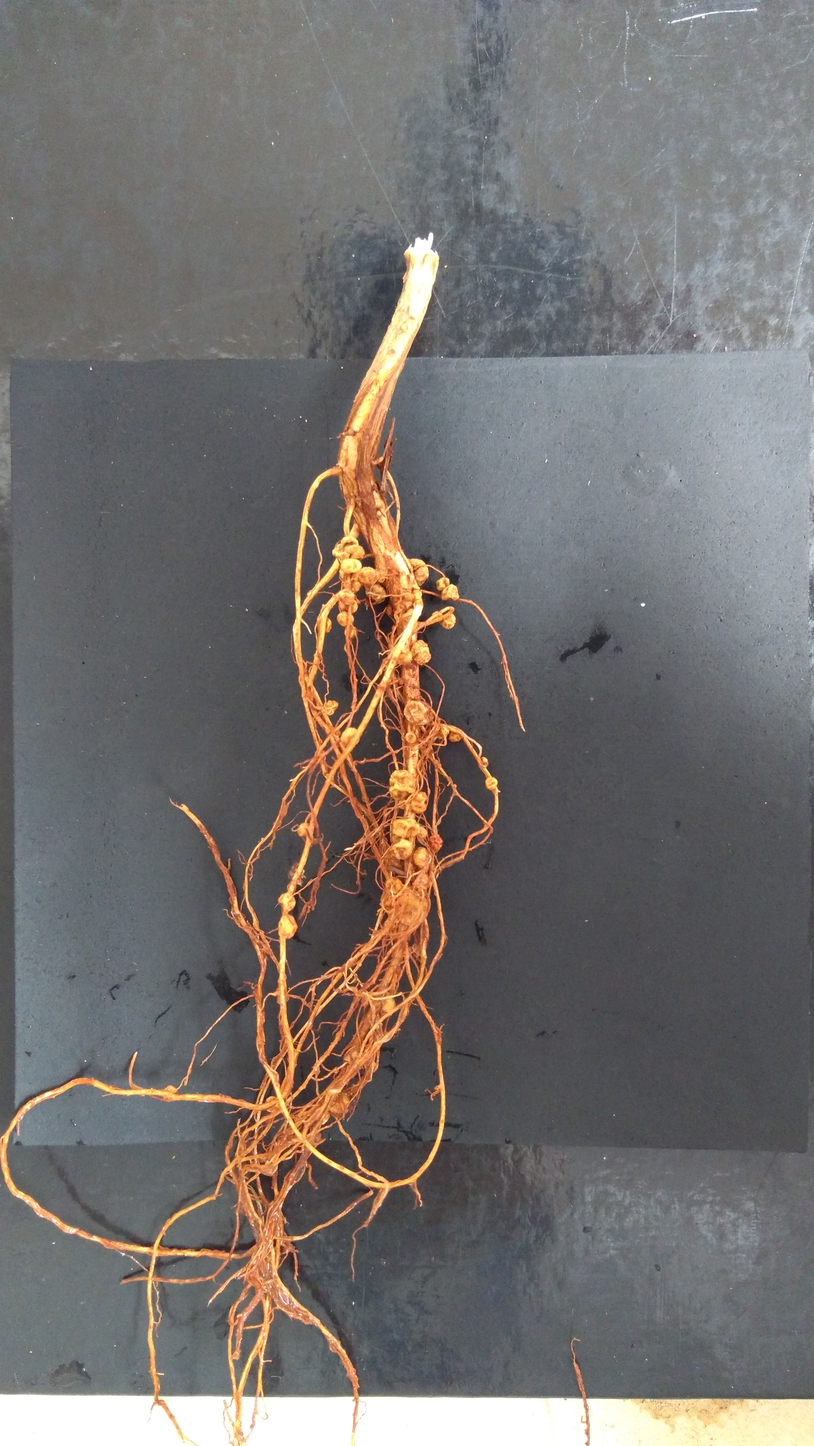nodule: (380, 884, 431, 932), (403, 700, 434, 726), (389, 769, 413, 799), (324, 1092, 351, 1116), (407, 558, 429, 587), (391, 818, 420, 838), (277, 913, 298, 939), (411, 639, 431, 666), (391, 837, 414, 860), (383, 847, 405, 871), (379, 991, 397, 1017), (364, 582, 386, 603), (413, 846, 434, 868), (410, 869, 432, 890), (287, 862, 305, 885), (395, 644, 413, 666), (340, 727, 359, 747), (411, 791, 428, 813), (359, 566, 377, 586), (340, 535, 359, 553), (441, 583, 459, 602), (384, 876, 403, 894), (278, 892, 296, 911), (264, 1095, 281, 1114), (341, 558, 362, 573), (309, 1123, 323, 1145), (338, 588, 355, 606), (331, 543, 350, 559), (162, 1084, 179, 1101), (314, 1107, 331, 1124), (427, 832, 443, 850), (338, 599, 358, 613), (316, 616, 332, 633), (440, 612, 456, 629), (433, 722, 449, 739), (263, 1158, 278, 1176), (337, 611, 354, 626), (350, 544, 365, 560), (324, 700, 339, 716), (416, 825, 428, 844), (415, 759, 425, 780), (374, 567, 387, 583), (344, 625, 358, 639), (436, 577, 450, 591), (399, 598, 413, 612), (448, 729, 463, 742), (485, 776, 498, 791), (408, 942, 421, 957), (297, 822, 310, 837), (344, 1051, 359, 1064), (361, 991, 373, 1007), (392, 636, 408, 648), (365, 1059, 378, 1072), (339, 568, 351, 581), (292, 1113, 309, 1122), (351, 580, 362, 593), (386, 599, 394, 616), (405, 731, 416, 743), (421, 736, 431, 749), (480, 756, 489, 768), (403, 592, 416, 600), (412, 589, 422, 599), (343, 579, 351, 590), (398, 799, 406, 809), (432, 611, 443, 618), (375, 509, 382, 519), (434, 1084, 442, 1092), (347, 429, 356, 436), (396, 676, 403, 685), (332, 1066, 340, 1073), (335, 730, 342, 736), (432, 759, 438, 764), (436, 762, 442, 767), (379, 635, 382, 640), (453, 784, 456, 788), (261, 837, 264, 840)
